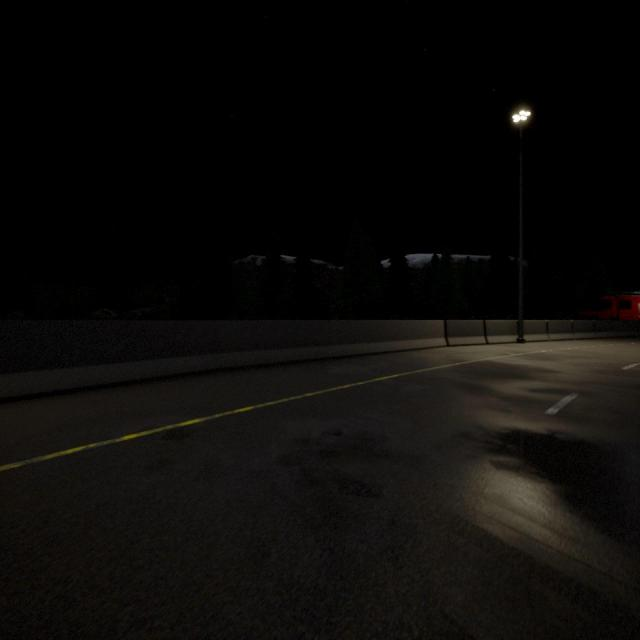Vehicle: (577, 290, 640, 320)
